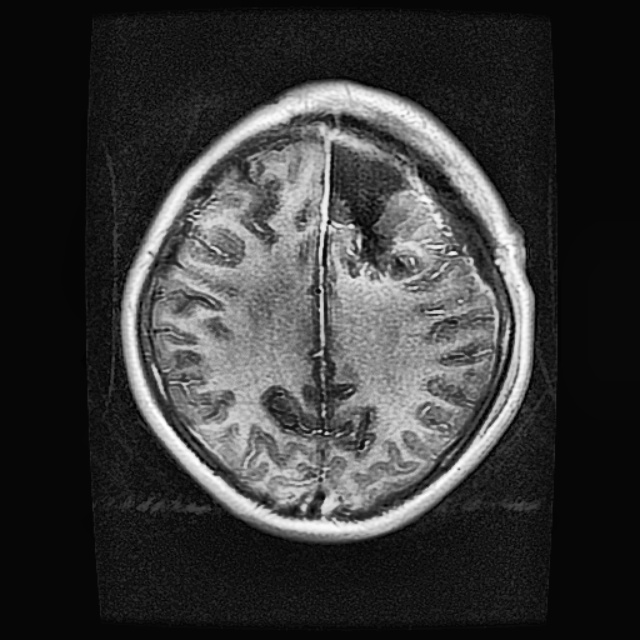Glioma: (325, 139, 449, 280)
